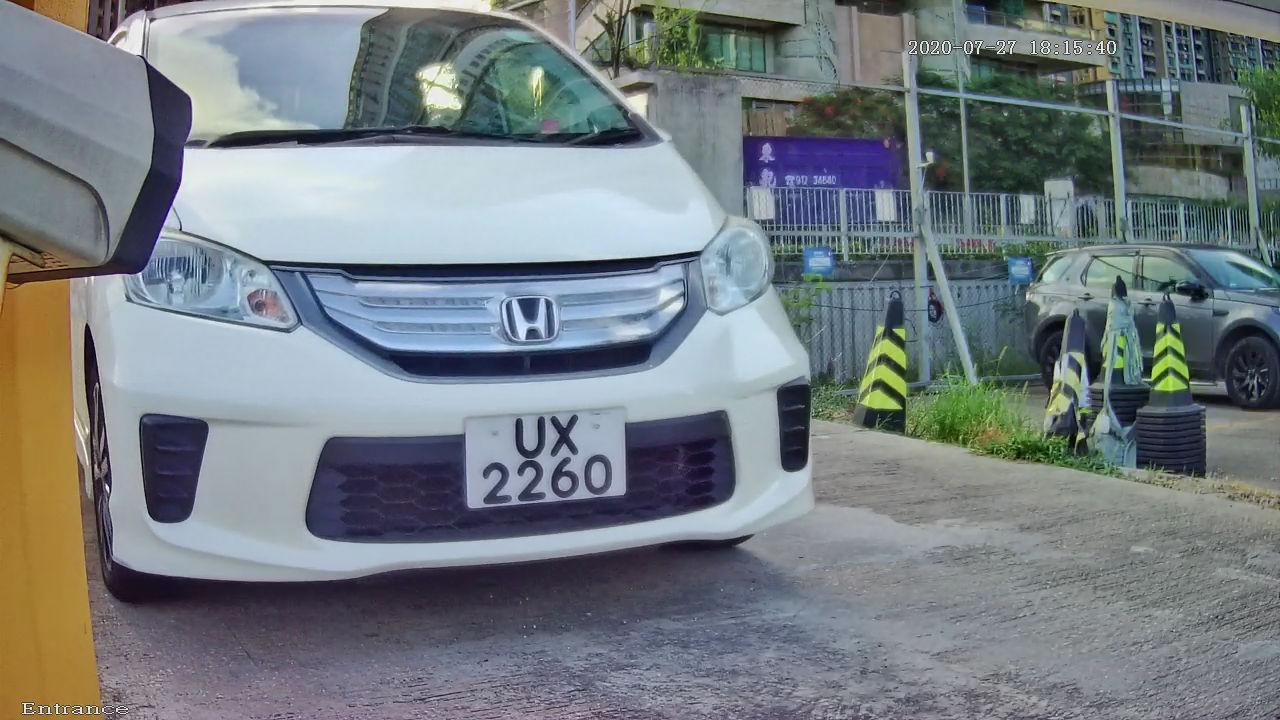privatecar: (1, 29, 961, 614)
